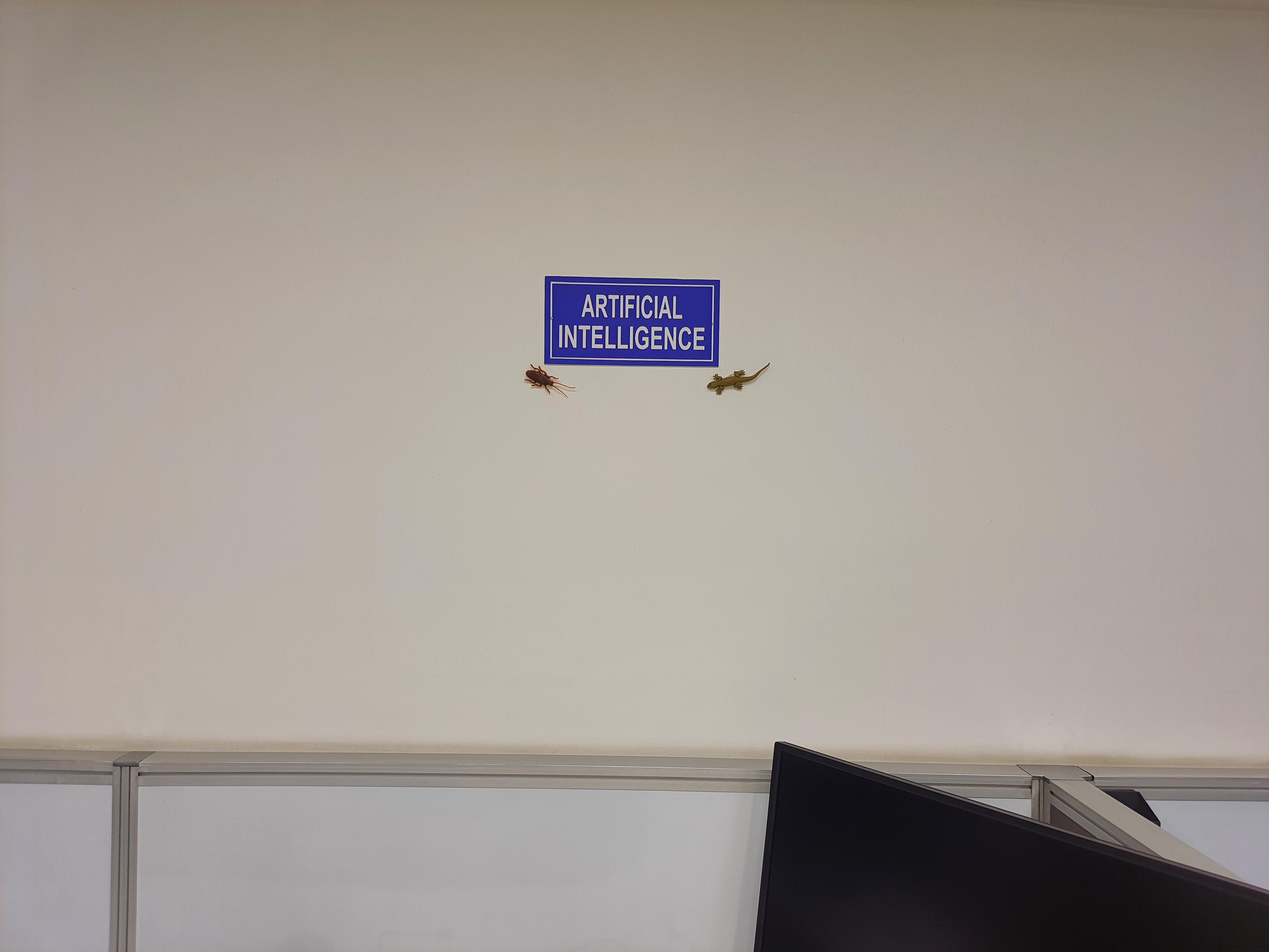cockroach: (500, 349, 599, 421)
lizard: (687, 355, 785, 405)
